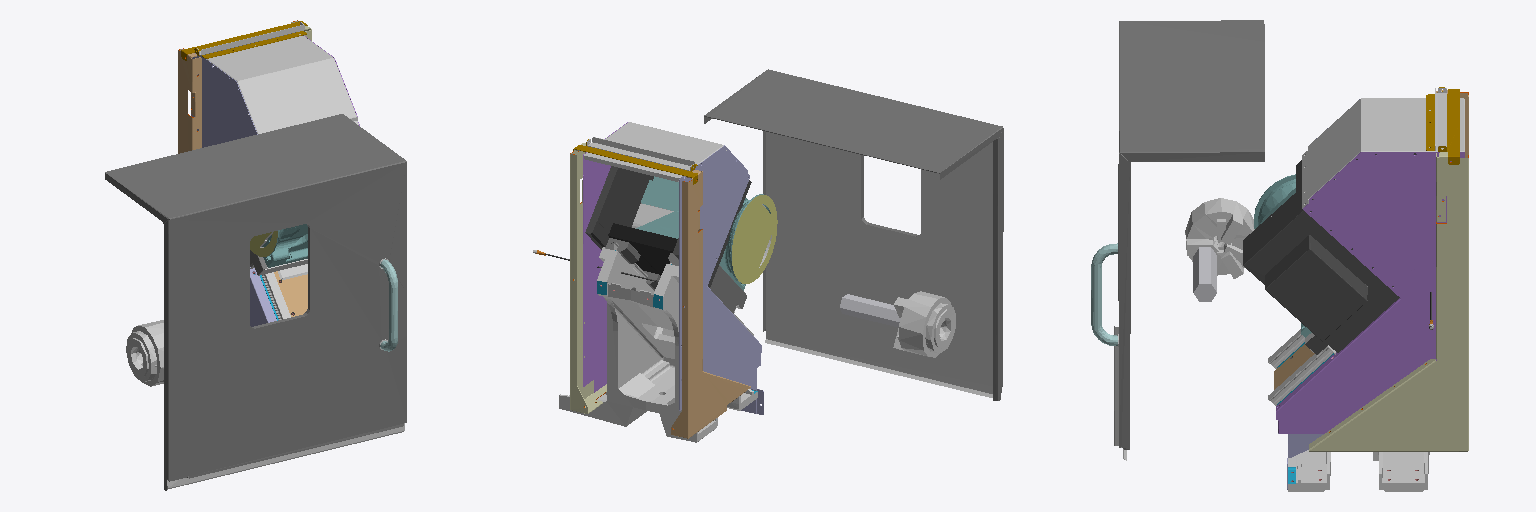
robot.urdf — haas_st10:
<?xml version="1.0"?>
<robot name="haas_st10">
  <!-- Generated by Docs/factory_machines/bl_export_urdf.py from urdf_spec_st10.json. Masses and inertias are nominal box estimates; joint limits follow the FactoryDemo prefab animation. -->
  <link name="base_link">
    <inertial>
      <origin xyz="-0.000125408 -2.99811e-05 1.08374" rpy="0 0 0" />
      <mass value="3600" />
      <inertia ixx="2216.09" ixy="0" ixz="0" iyy="6890.05" iyz="0" izz="6287.34" />
    </inertial>
    <visual>
      <origin xyz="0 0 0" rpy="0 0 0" />
      <geometry>
        <mesh filename="package://factory_machines_description/meshes/haas_st10/visual/base_link.dae" />
      </geometry>
    </visual>
    <collision>
      <origin xyz="0 0 0" rpy="0 0 0" />
      <geometry>
        <mesh filename="package://factory_machines_description/meshes/haas_st10/collision/base_link.stl" />
      </geometry>
    </collision>
  </link>
  <link name="door">
    <inertial>
      <origin xyz="-4.22895e-05 4.15593e-05 0.000226766" rpy="0 0 0" />
      <mass value="40" />
      <inertia ixx="4.30001" ixy="0" ixz="0" iyy="6.25938" iyz="0" izz="3.72477" />
    </inertial>
    <visual>
      <origin xyz="0 0 0" rpy="0 0 0" />
      <geometry>
        <mesh filename="package://factory_machines_description/meshes/haas_st10/visual/door.dae" />
      </geometry>
    </visual>
    <collision>
      <origin xyz="0 0 0" rpy="0 0 0" />
      <geometry>
        <mesh filename="package://factory_machines_description/meshes/haas_st10/collision/door.stl" />
      </geometry>
    </collision>
  </link>
  <link name="chuck">
    <inertial>
      <origin xyz="0.129636 0.0464759 0.0222304" rpy="0 0 0" />
      <mass value="35" />
      <inertia ixx="0.260933" ixy="0" ixz="0" iyy="0.646754" iyz="0" izz="0.646754" />
    </inertial>
    <visual>
      <origin xyz="0 0 0" rpy="0 0 0" />
      <geometry>
        <mesh filename="package://factory_machines_description/meshes/haas_st10/visual/chuck.dae" />
      </geometry>
    </visual>
    <collision>
      <origin xyz="0 0 0" rpy="0 0 0" />
      <geometry>
        <mesh filename="package://factory_machines_description/meshes/haas_st10/collision/chuck.stl" />
      </geometry>
    </collision>
  </link>
  <link name="turret_z_carriage">
    <inertial>
      <mass value="1" />
      <inertia ixx="0.001" ixy="0" ixz="0" iyy="0.001" iyz="0" izz="0.001" />
    </inertial>
  </link>
  <link name="turret_slide">
    <inertial>
      <origin xyz="0.104354 0.0122355 -0.133762" rpy="0 0 0" />
      <mass value="250" />
      <inertia ixx="35.4469" ixy="0" ixz="0" iyy="35.6068" iyz="0" izz="18.7019" />
    </inertial>
    <visual>
      <origin xyz="0 0 0" rpy="0 0 0" />
      <geometry>
        <mesh filename="package://factory_machines_description/meshes/haas_st10/visual/turret_slide.dae" />
      </geometry>
    </visual>
    <collision>
      <origin xyz="0 0 0" rpy="0 0 0" />
      <geometry>
        <mesh filename="package://factory_machines_description/meshes/haas_st10/collision/turret_slide.stl" />
      </geometry>
    </collision>
  </link>
  <link name="turret">
    <inertial>
      <origin xyz="-0.00693905 0.00064905 9.41753e-06" rpy="0 0 0" />
      <mass value="90" />
      <inertia ixx="4.30037" ixy="0" ixz="0" iyy="3.0612" iyz="0" izz="3.0612" />
    </inertial>
    <visual>
      <origin xyz="0 0 0" rpy="0 0 0" />
      <geometry>
        <mesh filename="package://factory_machines_description/meshes/haas_st10/visual/turret.dae" />
      </geometry>
    </visual>
    <collision>
      <origin xyz="0 0 0" rpy="0 0 0" />
      <geometry>
        <mesh filename="package://factory_machines_description/meshes/haas_st10/collision/turret.stl" />
      </geometry>
    </collision>
  </link>
  <joint name="door_slide" type="prismatic">
    <origin xyz="-0.630304 -0.415653 1.11928" rpy="0 0 0" />
    <parent link="base_link" />
    <child link="door" />
    <axis xyz="-1 0 0" />
    <limit effort="500" velocity="0.5" lower="0" upper="0.9" />
  </joint>
  <joint name="chuck_spin" type="continuous">
    <origin xyz="-0.958564 -0.335784 0.956601" rpy="0 0 0" />
    <parent link="base_link" />
    <child link="chuck" />
    <axis xyz="1 0 0" />
    <limit effort="50" velocity="73.3" />
  </joint>
  <joint name="turret_z" type="prismatic">
    <origin xyz="-0.228564 0.0972164 1.2906" rpy="0 0 0" />
    <parent link="base_link" />
    <child link="turret_z_carriage" />
    <axis xyz="-1 0 0" />
    <limit effort="500" velocity="0.3" lower="0" upper="0.17" />
  </joint>
  <joint name="turret_x" type="prismatic">
    <origin xyz="0 0 0" rpy="0 0 0" />
    <parent link="turret_z_carriage" />
    <child link="turret_slide" />
    <axis xyz="0 -0.68271 -0.730689" />
    <limit effort="500" velocity="0.3" lower="0" upper="0.08" />
  </joint>
  <joint name="turret_index" type="continuous">
    <origin xyz="-0.25 -0.135 -0.015" rpy="0 0 0" />
    <parent link="turret_slide" />
    <child link="turret" />
    <axis xyz="1 0 0" />
    <limit effort="200" velocity="2" />
  </joint>
</robot>

--- What the picture shows (computed from the rendered views, not written in the file) ---
The picture shows the robot from 3 angles, left to right: view 1: azimuth 30°, elevation 25°; view 2: azimuth 150°, elevation 25°; view 3: azimuth 270°, elevation 25°; orthographic projection.
Robot: haas_st10 — 6 links, 5 joints (2 continuous, 3 prismatic); root link base_link; default pose: all joints at 0.
Links seen in each view (by area): view 1: door, turret_slide, chuck; view 2: door, turret_slide, chuck; view 3: turret_slide, door, chuck.
Link boxes in pixels (x1=…): door: x1=105, y1=114, x2=406, y2=490; turret_slide: x1=178, y1=20, x2=359, y2=326; chuck: x1=126, y1=320, x2=163, y2=386; door: x1=704, y1=69, x2=1003, y2=400; turret_slide: x1=533, y1=122, x2=777, y2=442; chuck: x1=840, y1=291, x2=955, y2=357; turret_slide: x1=1243, y1=87, x2=1468, y2=491; door: x1=1091, y1=20, x2=1264, y2=460; chuck: x1=1185, y1=198, x2=1254, y2=301.
Bounding box of the posed robot: 1.3 × 1.12 × 1.12 m (x, y, z).
3 mesh visuals loaded from 5 distinct referenced files (3 Collada DAE); not drawn: 2 (reference not matched to a file when rendering).
